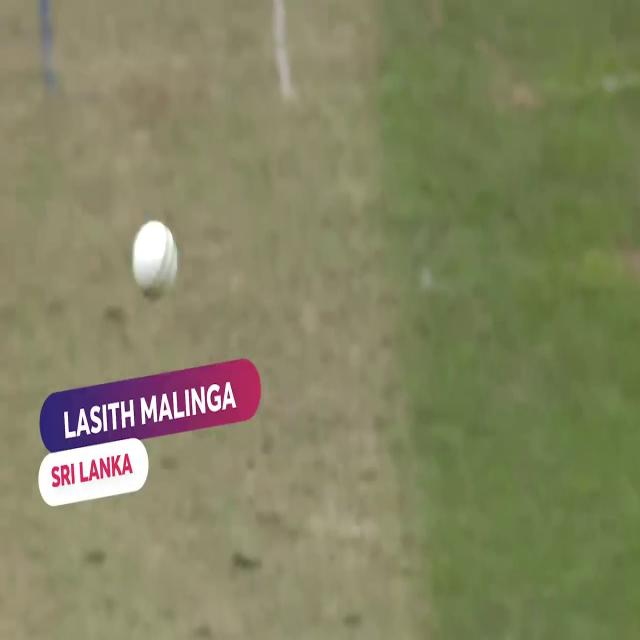ball: (122, 214, 182, 303)
